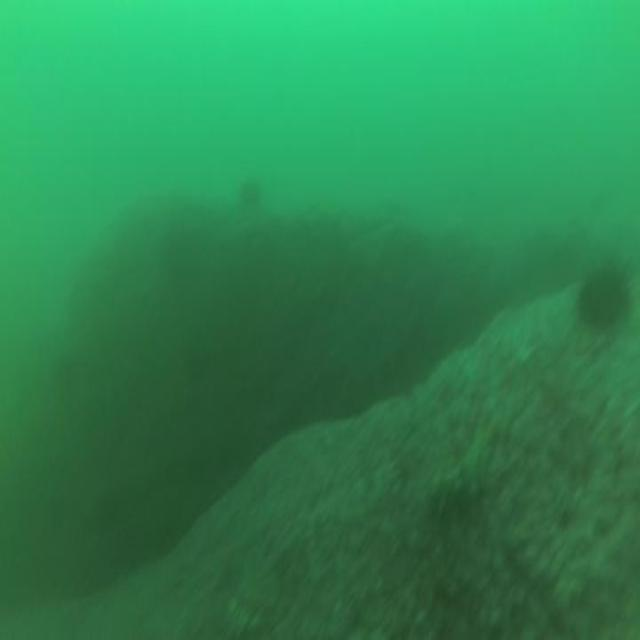echinus: (580, 267, 630, 330), (241, 178, 261, 206)
holothurian: (428, 419, 500, 512)
